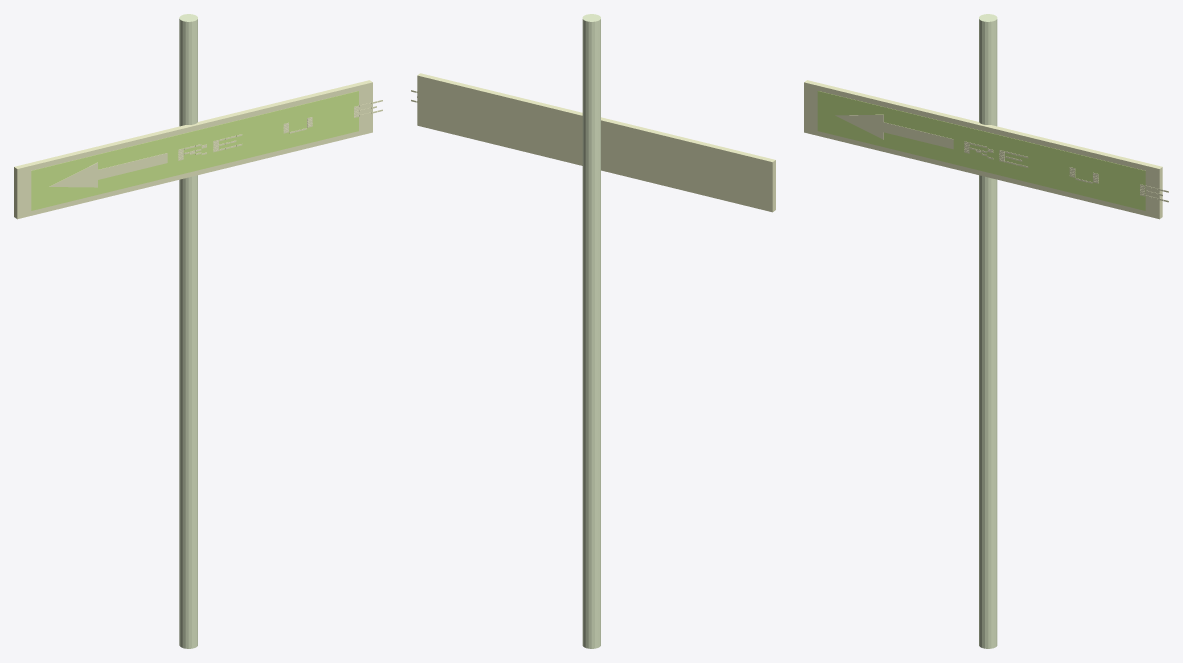
The model's file is sign_separator_refuge_arrow_left.glb.
The picture shows the model from 3 angles, left to right: view 1: azimuth 30°, elevation 25°; view 2: azimuth 150°, elevation 25°; view 3: azimuth 330°, elevation 25°; orthographic projection.
Visible parts, largest first — view 1: layer_1_00, pole, plate_base_00, layer_2_00, layer_2_01; view 2: plate_base_00, pole; view 3: layer_1_00, pole, plate_base_00, layer_2_00, layer_2_01.
Part boxes in pixels (box(x1,y1,x2,y2)): layer_1_00: box(31, 91, 358, 210); pole: box(179, 14, 197, 648); plate_base_00: box(14, 80, 372, 219); layer_2_00: box(98, 153, 167, 179); layer_2_01: box(49, 162, 97, 187); plate_base_00: box(417, 73, 775, 212); pole: box(582, 14, 600, 648); layer_1_00: box(817, 91, 1145, 210); pole: box(979, 14, 997, 648); plate_base_00: box(804, 80, 1162, 219); layer_2_00: box(883, 122, 953, 149); layer_2_01: box(835, 114, 883, 139).
Bounding box in the file's own units: 1.34 × 2.2 × 0.0725.
